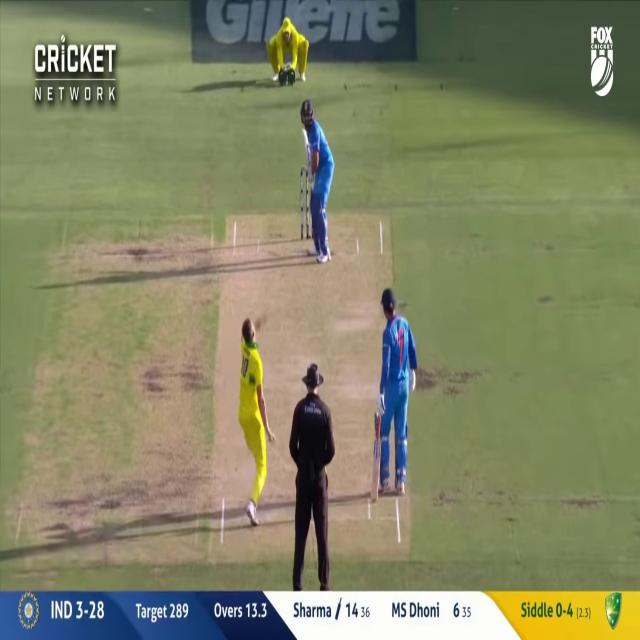stump: (301, 167, 315, 237)
